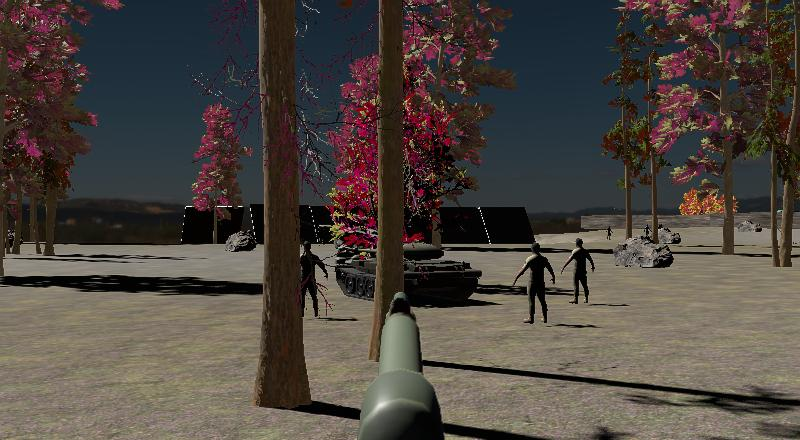Tank: (332, 234, 484, 305)
